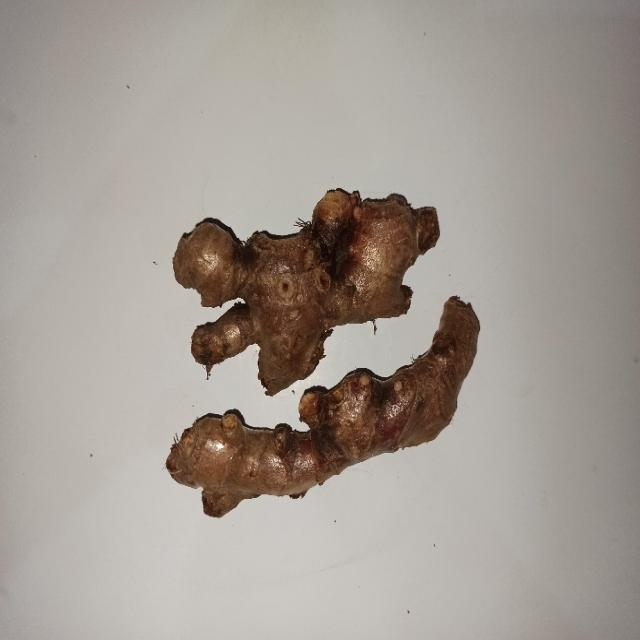ginger: (161, 314, 484, 526), (176, 194, 424, 373)
